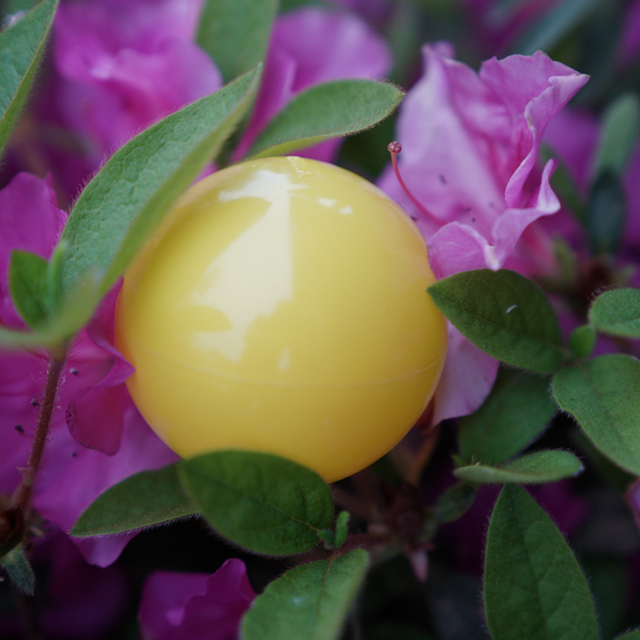Ball: (103, 167, 449, 494)
